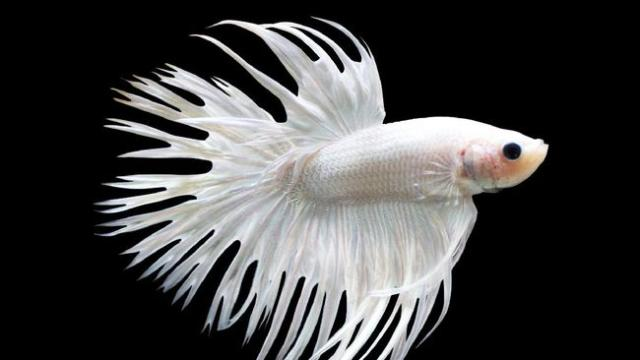Mulut: (519, 124, 571, 174)
Sirip Dada: (390, 126, 468, 222)
